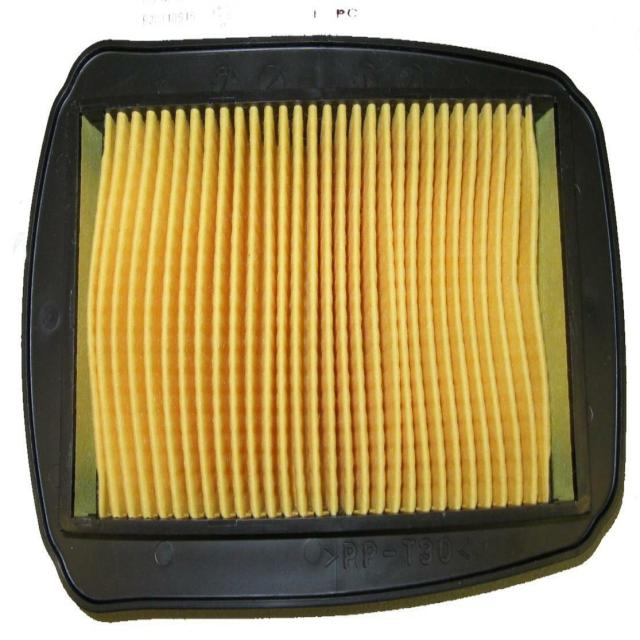air_filter: (10, 31, 628, 617)
